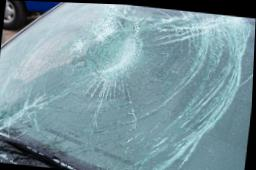Windshield: (0, 2, 256, 170)
